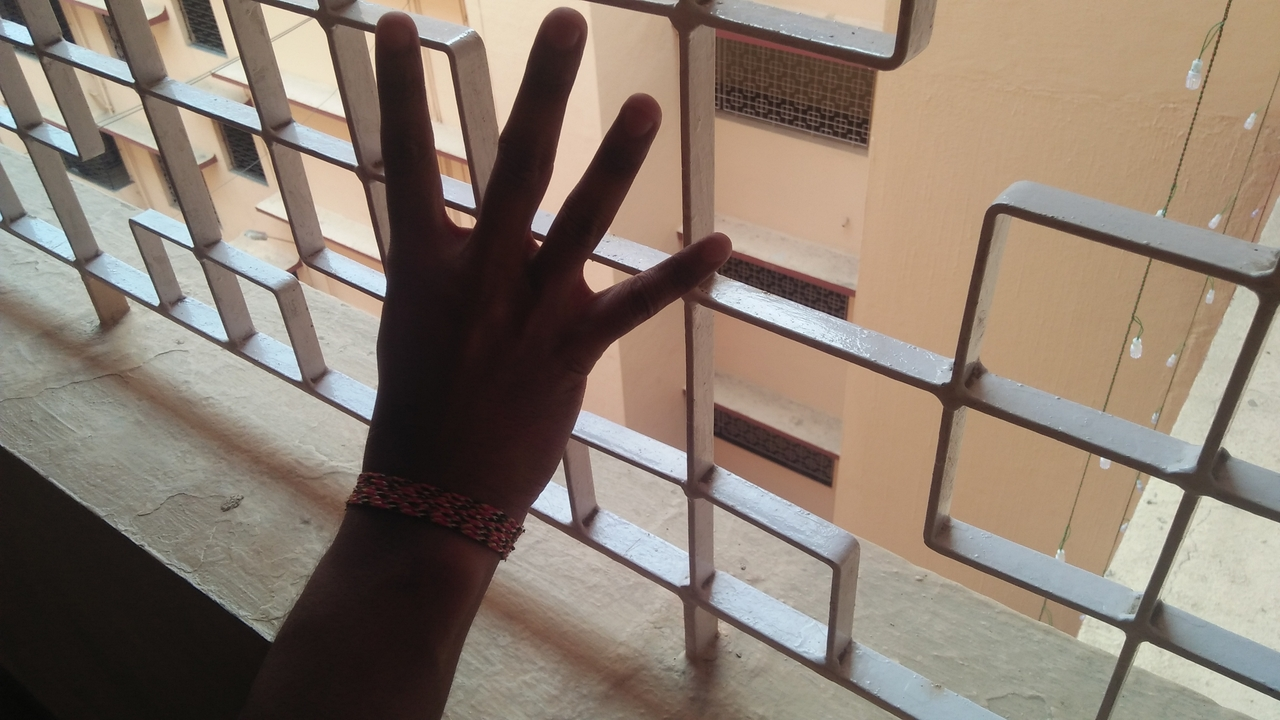fingertip: (604, 82, 668, 136), (536, 2, 590, 58), (680, 226, 738, 266), (368, 8, 418, 54)
